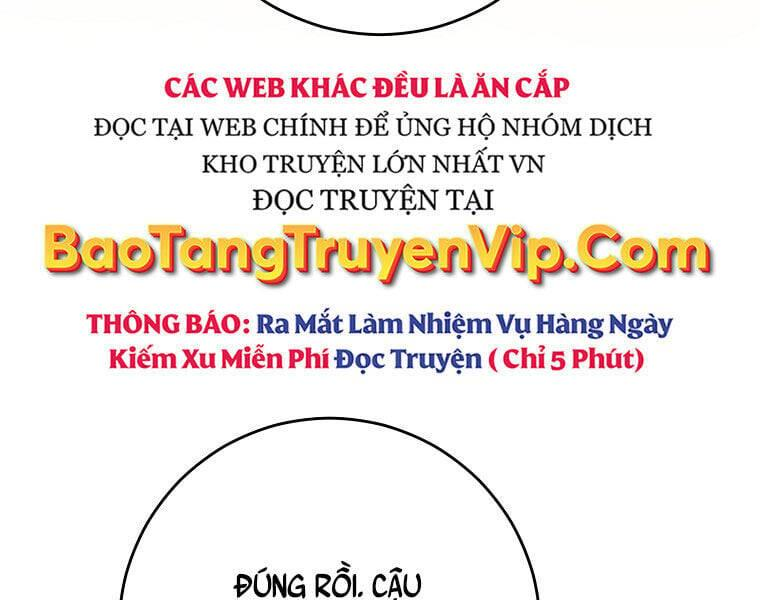quangcao: (42, 68, 716, 375)
